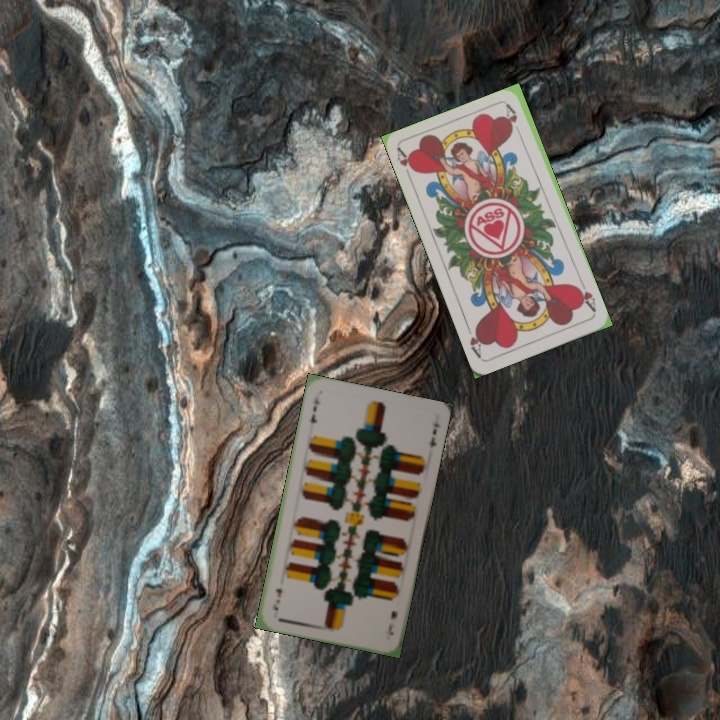E7: (306, 391, 323, 426), (384, 607, 400, 638)
HA: (572, 276, 599, 315), (393, 145, 419, 184)
